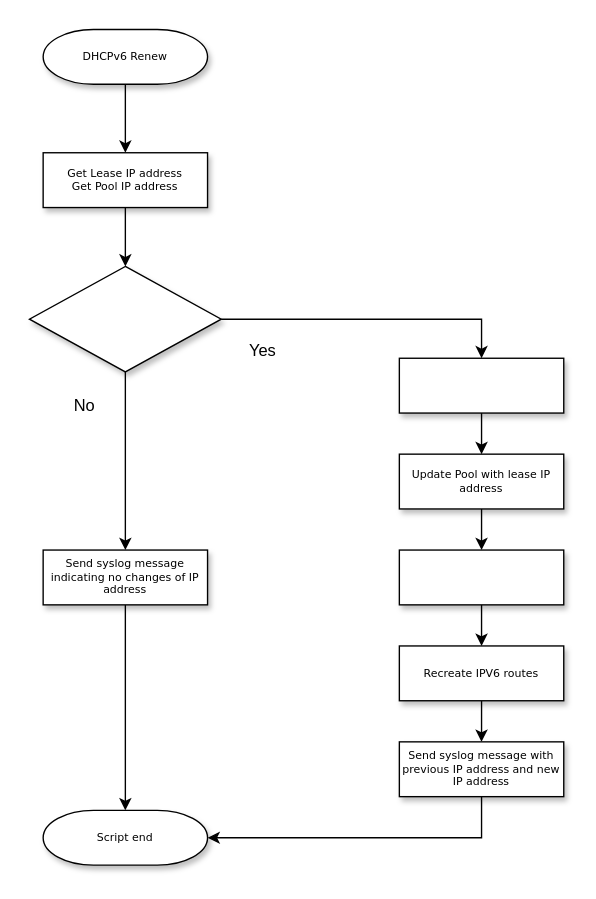
Image size: 596x899. Some labels were removed from this diagram. Here are the shapes that lost their labels. From the top down, the centre of each, then its label:
[126,321]: Is Lease IP address different from prefix pool IP address ?
[482,387]: Send syslog message indicating IP address changes
[482,578]: Set DHCP server with new updated prefix pool
